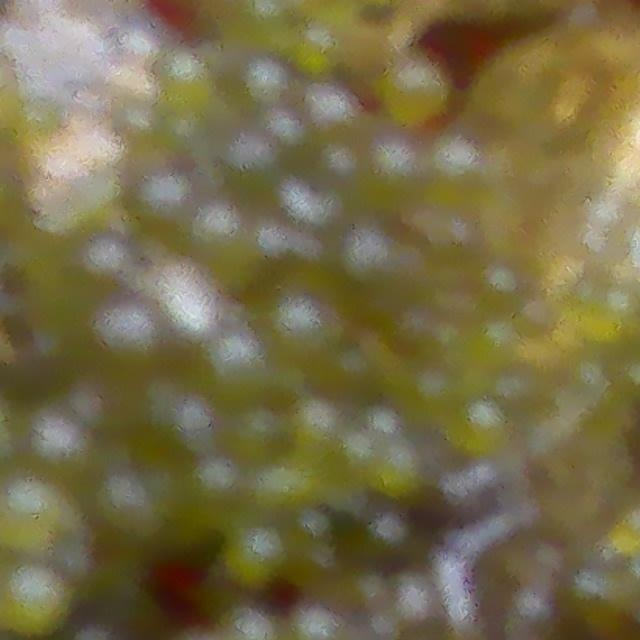SeaGrape: (96, 302, 179, 388), (332, 230, 420, 309), (207, 116, 283, 198), (185, 208, 260, 284), (356, 136, 428, 210), (0, 568, 72, 637), (0, 477, 63, 551), (148, 264, 215, 331), (164, 406, 226, 457), (508, 597, 567, 640)
